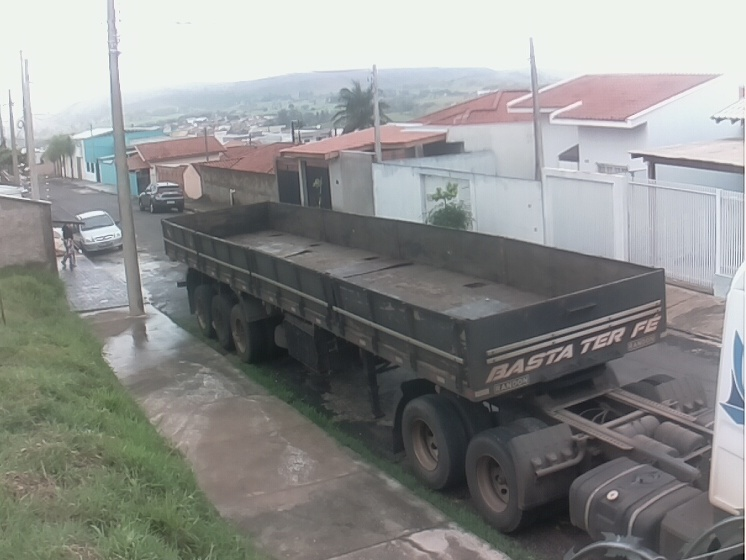person: (60, 219, 77, 270)
